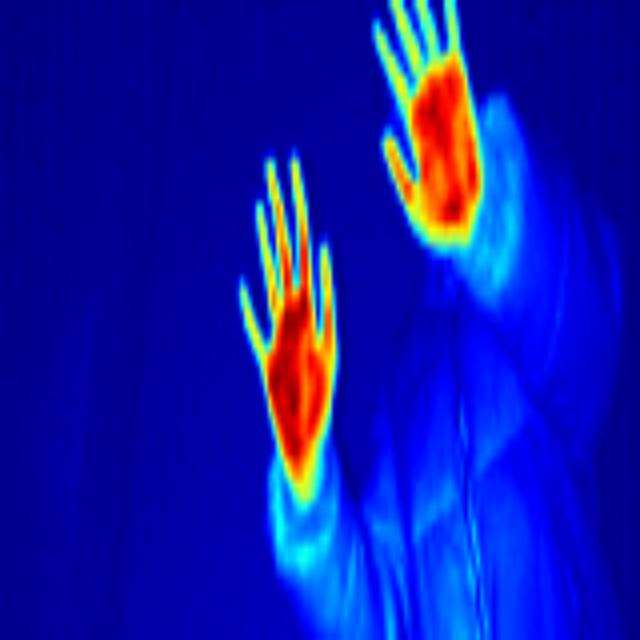hand: (216, 132, 366, 514), (366, 0, 519, 256)
